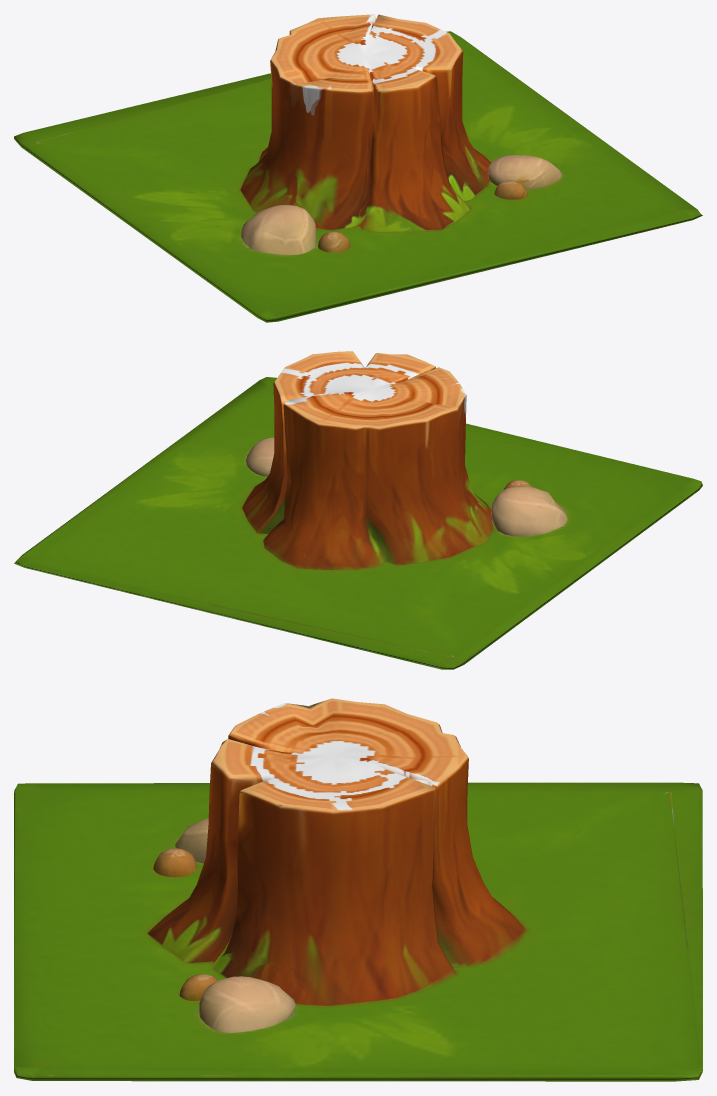
Rendered from etapa0.glb.
3 views of the same model, one above another, from view 1: azimuth 30°, elevation 25°; view 2: azimuth 150°, elevation 25°; view 3: azimuth 270°, elevation 25° (orthographic). The views are drawn at different scales.
Size of the model in its own units: 1 by 0.2952 by 0.9963.
Materials: 1 (1 with a texture image).
